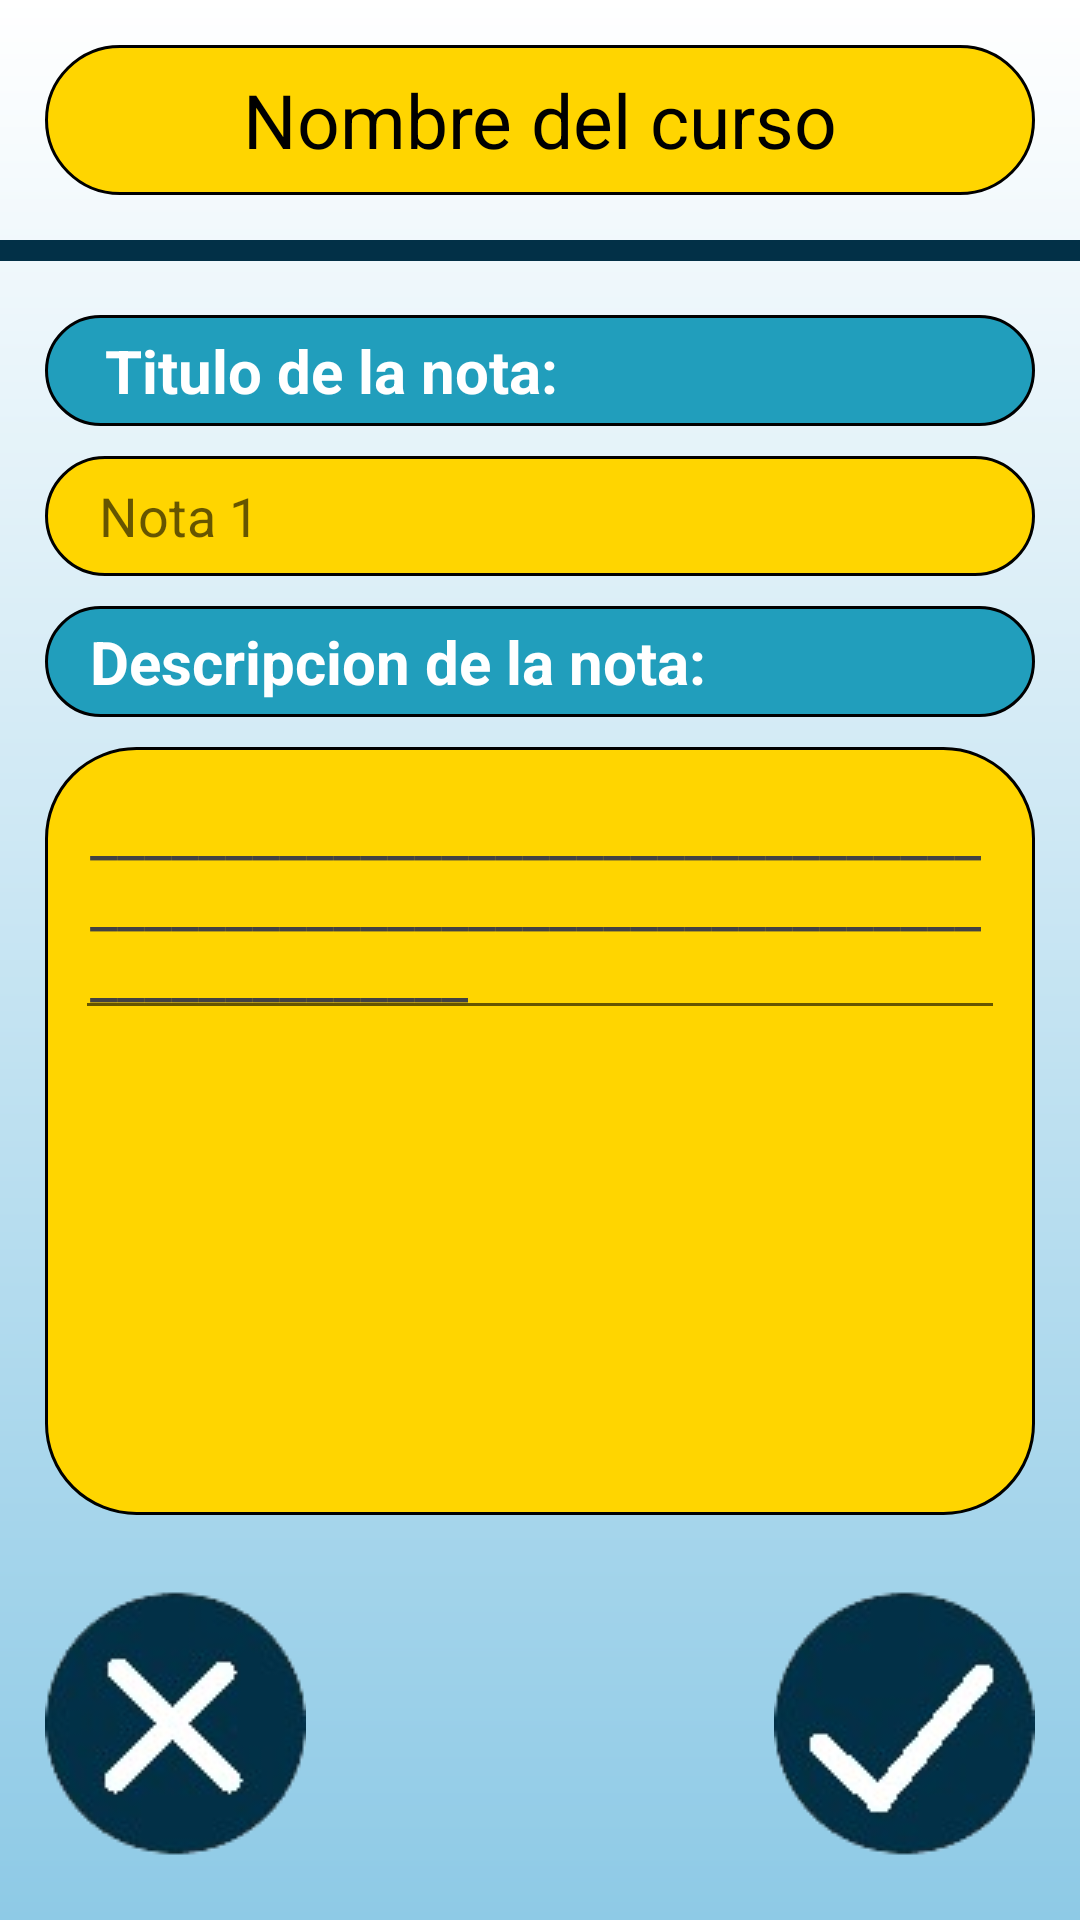

Screen size 1080px×1920px. Icon name, then its center in pixels as point (x, y):
cancel: point (175, 1723)
check: point (904, 1723)
